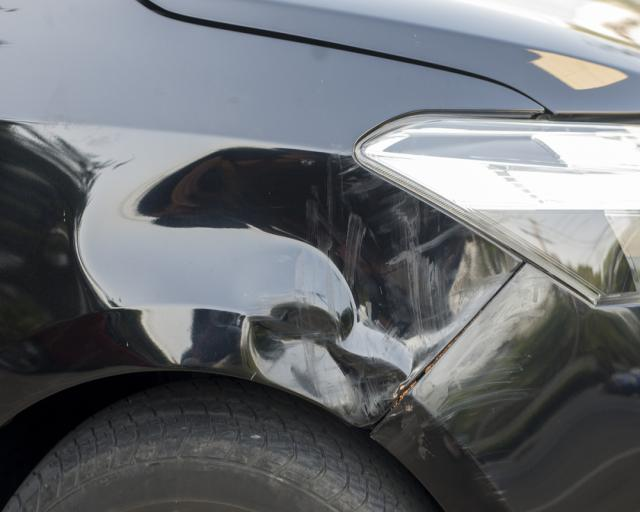dent: (83, 147, 518, 414)
scratch: (393, 265, 555, 505)
